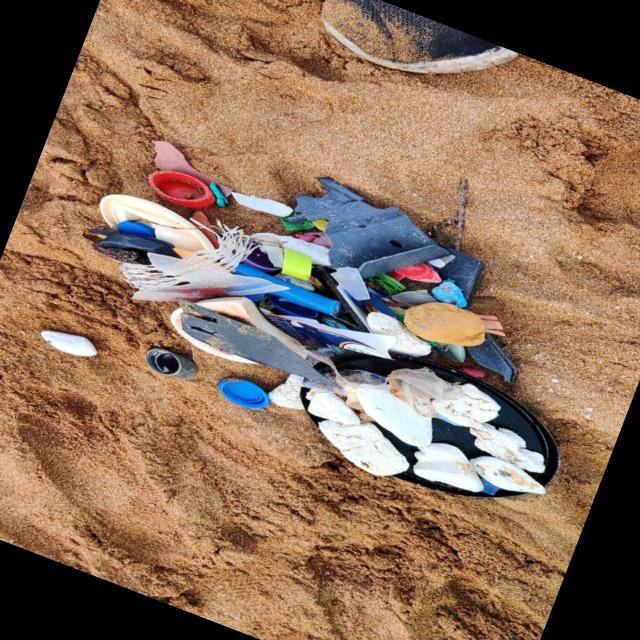Bottle cap: (148, 168, 217, 208), (214, 376, 269, 410), (145, 347, 197, 380)
Other plastic: (169, 295, 557, 502), (81, 192, 434, 362), (286, 174, 490, 305), (374, 288, 520, 383), (152, 139, 231, 208), (230, 191, 288, 217)
Styrofoam piece: (315, 420, 410, 477), (356, 391, 433, 448), (466, 426, 548, 473), (413, 444, 486, 491), (468, 455, 550, 492), (435, 381, 503, 424), (307, 390, 361, 423), (39, 330, 102, 357), (266, 374, 305, 410)
